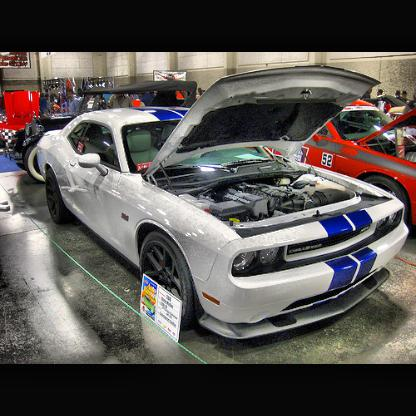Dodge Challenger SRT8 2011: (39, 64, 410, 340)
